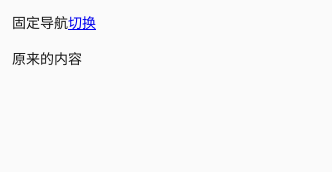
keeps navigation and previous content while the next chunk loads
The width and height of the screenshot is (332, 172).
Later steps or results of the test are not shown.
Step 1. Click the link "切换" → {"x": 82, "y": 22}, box [68,13,96,32]
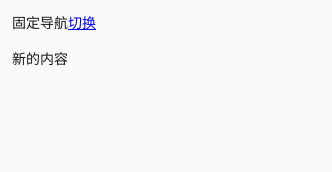
Expected: the text "固定导航" is shown, [12,13,68,32]
Now the text "新的内容" is shown, box [12,49,68,68]
